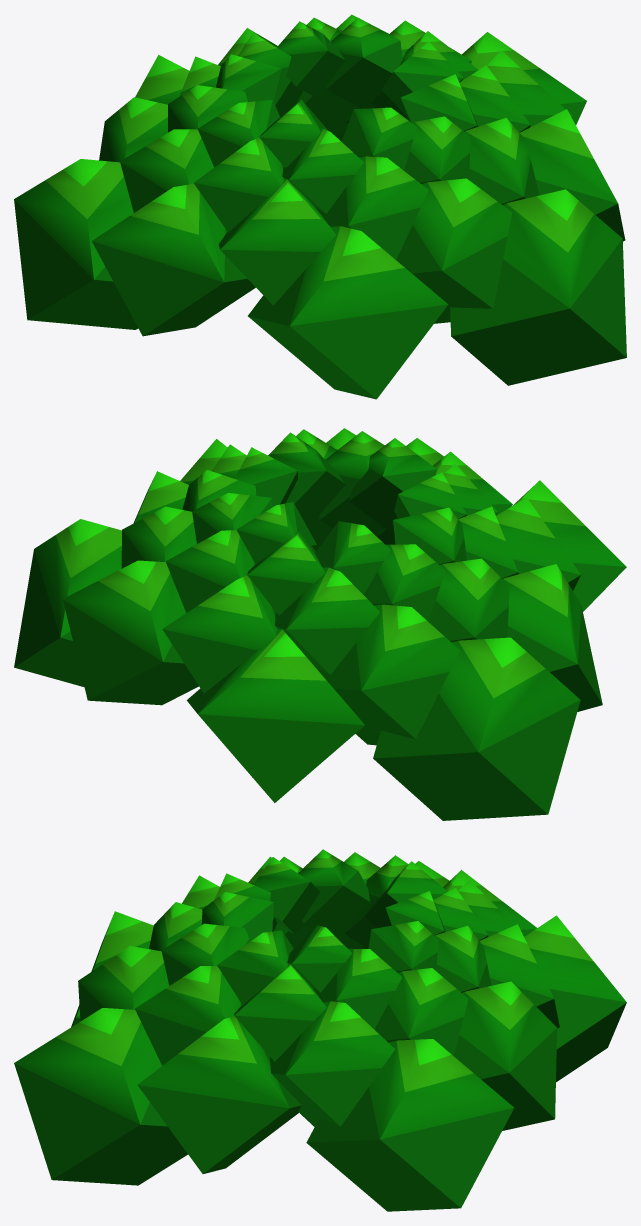
Rendered from Vegetation_Verdant_Grass_Topiary_Cubes_01.FBX.
The picture shows the model from 3 angles, top to bottom: view 1: azimuth 30°, elevation 25°; view 2: azimuth 150°, elevation 25°; view 3: azimuth 270°, elevation 25°; orthographic projection. The views are drawn at different scales.
Visible parts, largest first — view 1: Vegetation_Verdant_Grass_Topiary_Cubes_01; view 2: Vegetation_Verdant_Grass_Topiary_Cubes_01; view 3: Vegetation_Verdant_Grass_Topiary_Cubes_01.
Part boxes in pixels (bbox=[...]): Vegetation_Verdant_Grass_Topiary_Cubes_01: bbox=[14, 14, 626, 399]; Vegetation_Verdant_Grass_Topiary_Cubes_01: bbox=[14, 428, 626, 820]; Vegetation_Verdant_Grass_Topiary_Cubes_01: bbox=[14, 849, 626, 1211].
Bounding box in the file's own units: 4220 × 2053 × 4291.
